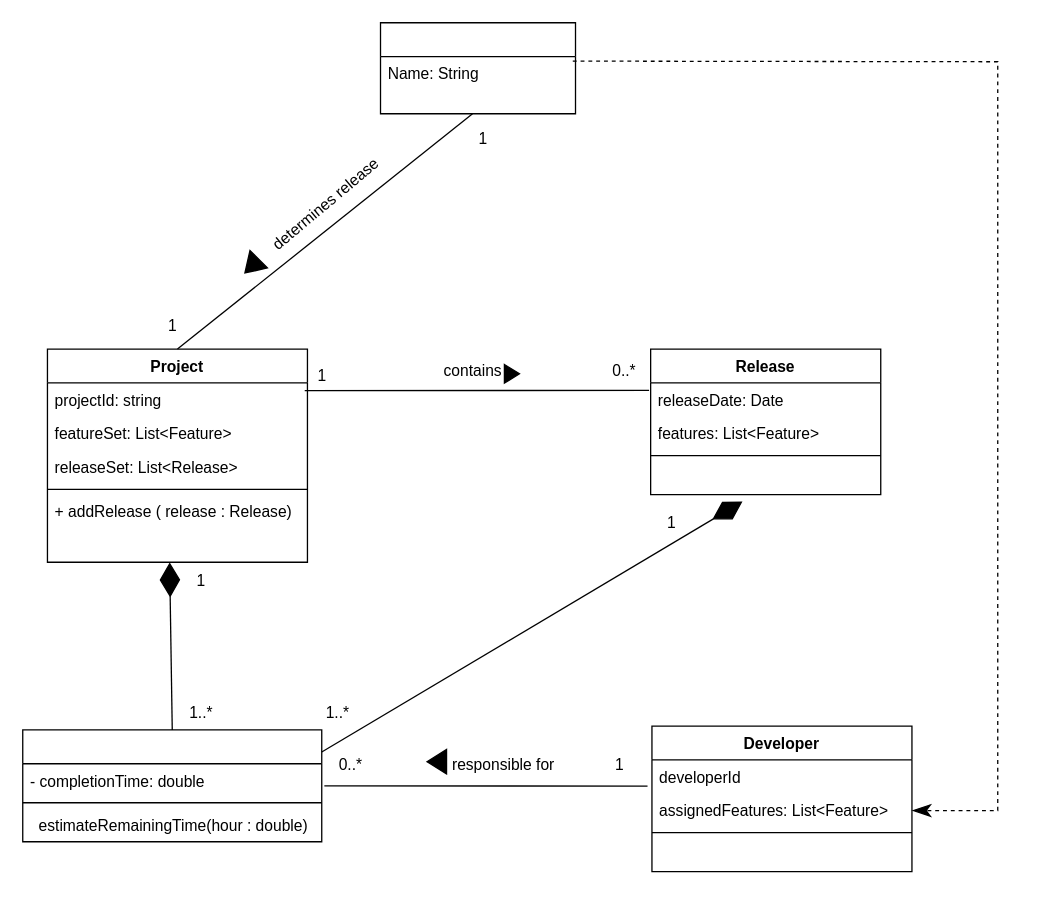
Image size: 1039x898. Some labels were removed from this diagram. Here are the shapes that lost their labels. From the top down, the box of each, then its label:
(379, 21, 576, 114): ProjectManager
(21, 729, 322, 842): Feature
